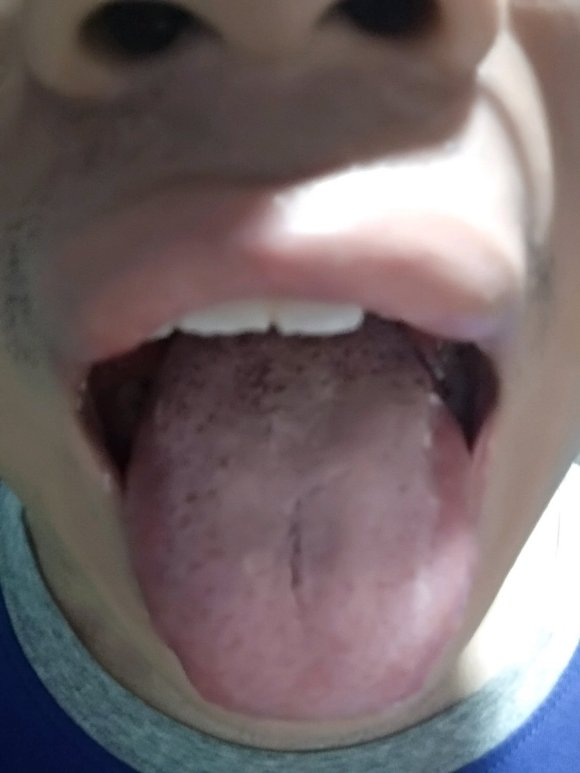baitaishe: (128, 320, 478, 724)
hongdianshe: (272, 380, 288, 396), (182, 489, 199, 504), (193, 421, 206, 436)
liewenshe: (282, 499, 303, 589)
